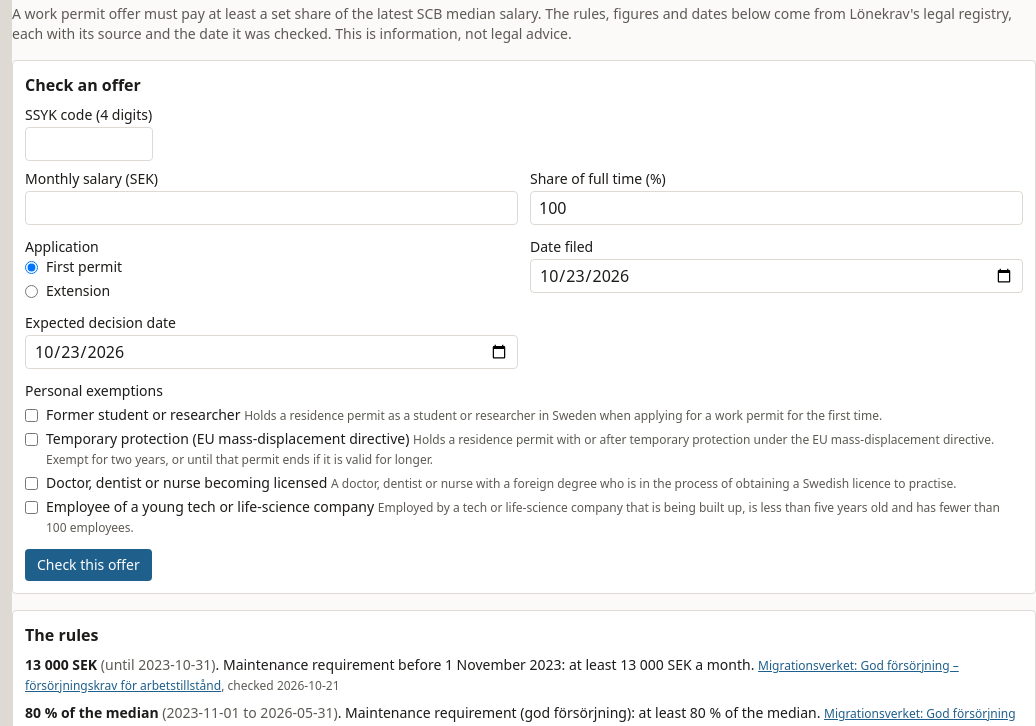
Scenario: LegalView › checks an offer for a code and shows the answer, with the part-time warning and disclaimer
Step 1. Type "2512" into the field labelled "SSYK code (4 digits)" → [89, 144], box [25,127,153,161]
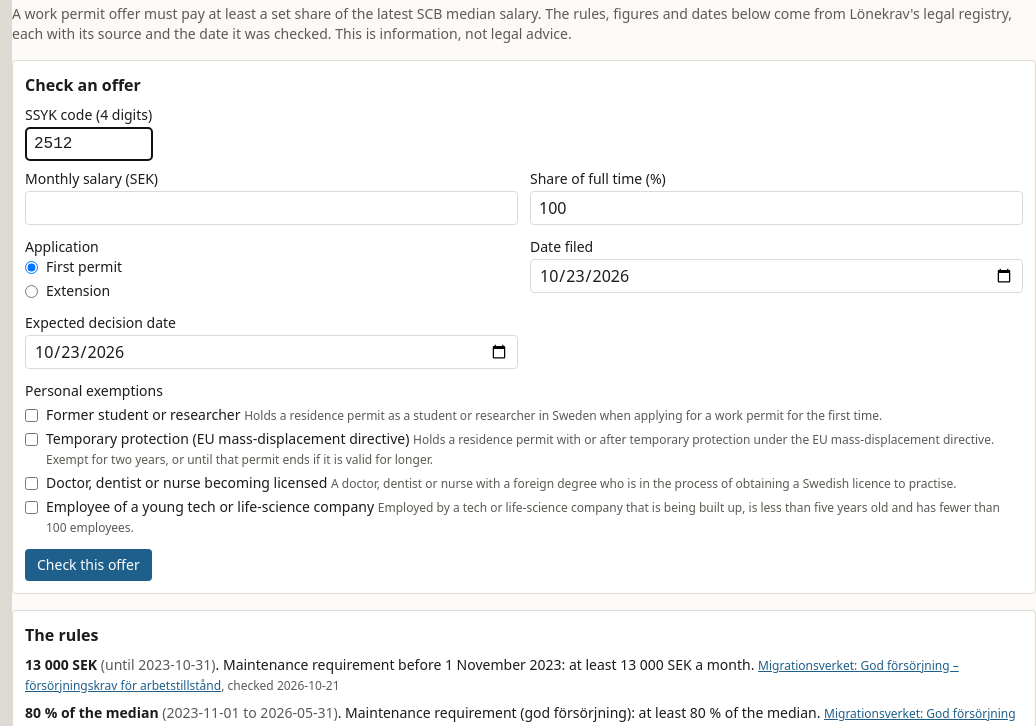
Step 2. Type "26000" into the number field labelled "Monthly salary (SEK)" → [272, 208], box [25,191,518,225]
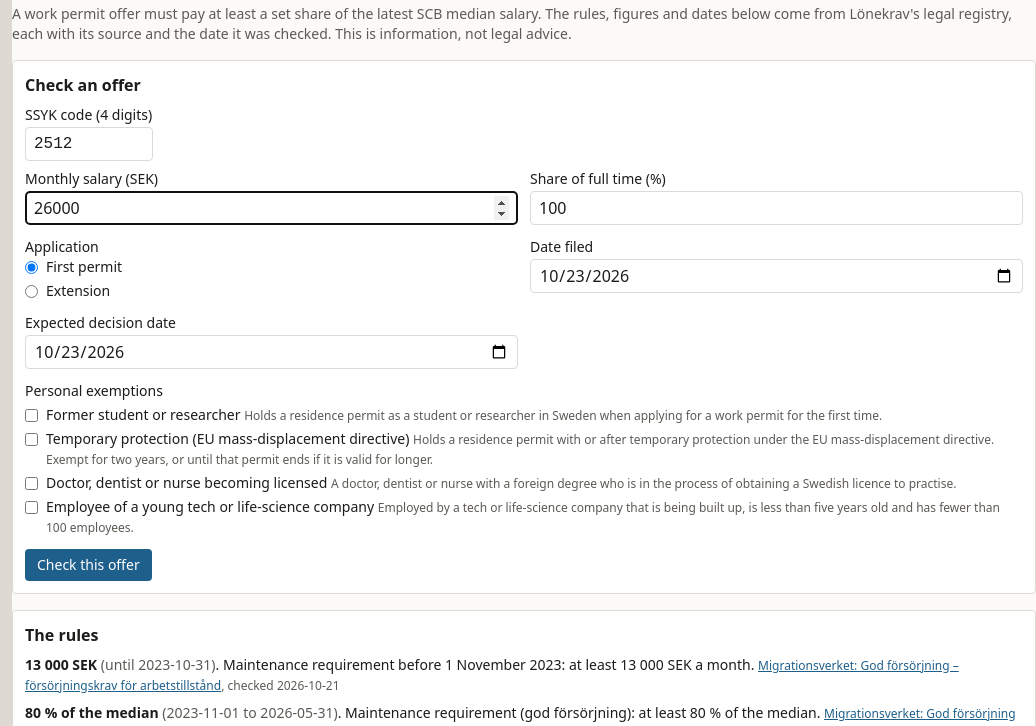
Step 3. Replace the text in the number field labelled "Share of full time (%)" with "50" → [776, 208], box [530,191,1023,225]
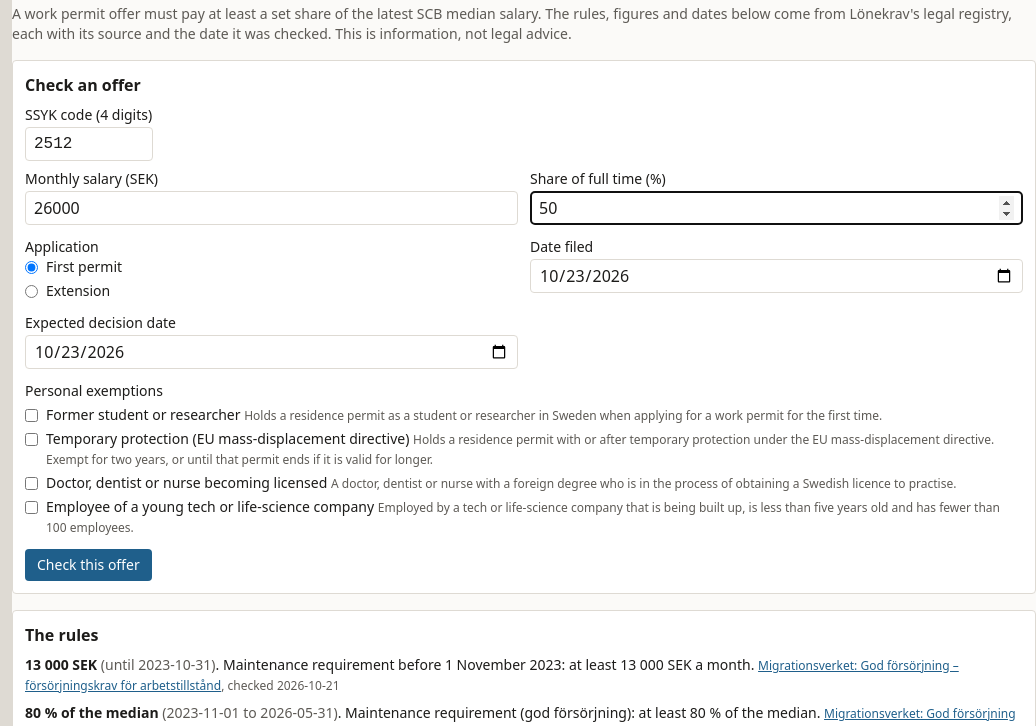
Step 4. Click the button "Check this offer" → [88, 565], box [25,549,152,581]
(page scrolled)
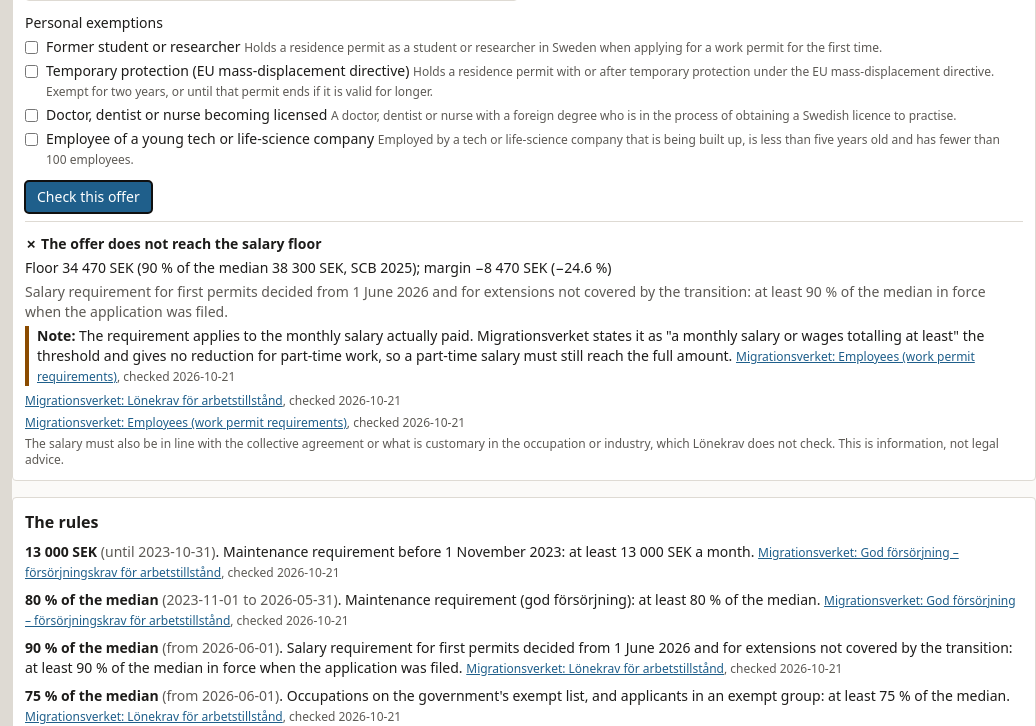
expect the element named "result" shows "The requirement applies to the monthly salary actually paid. Migrationsverket states it as \"a monthly salary or wages totalling at least\" the threshold and give": met, box [37,326,984,365]
